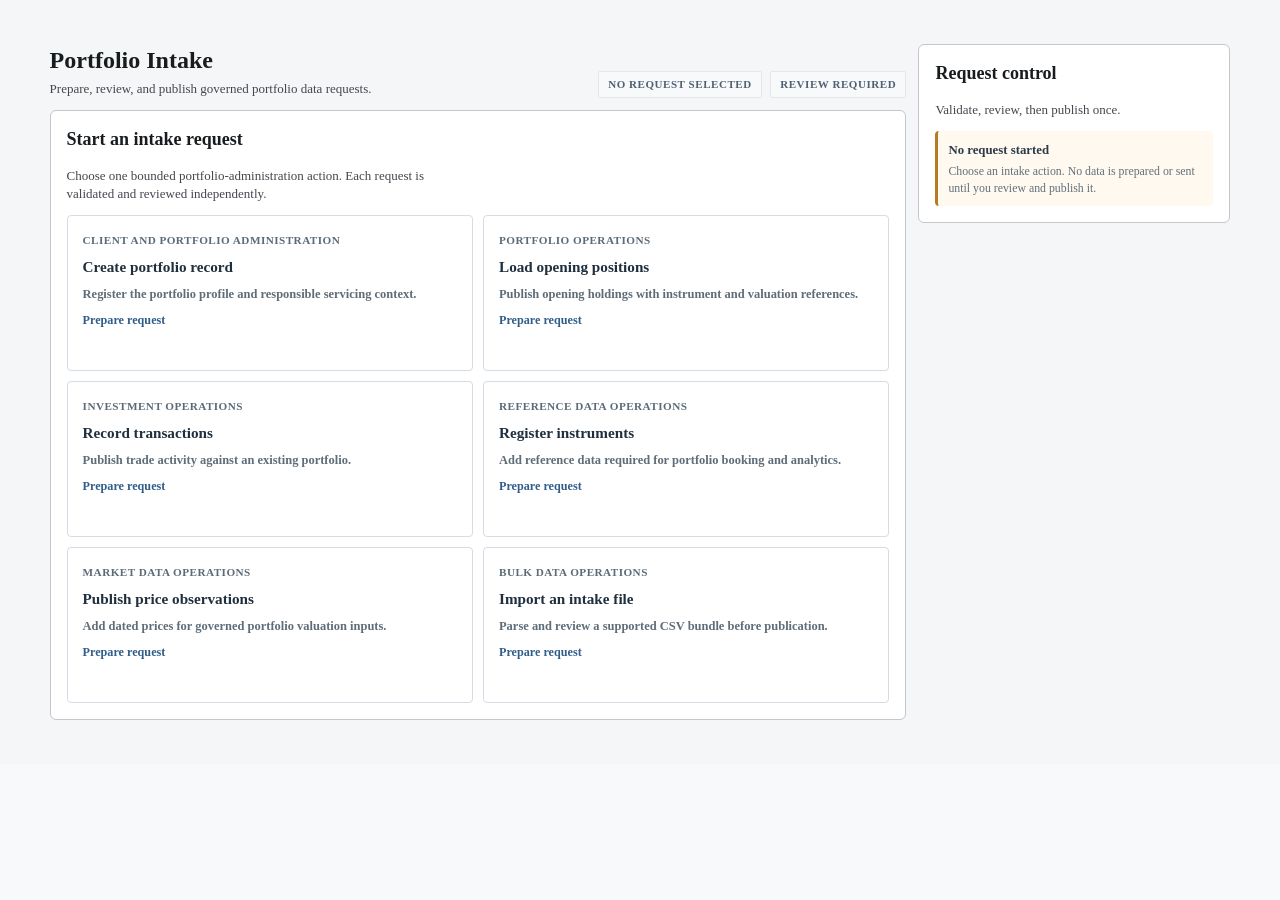
Test: IntakePage › loads optional source suggestions without replacing manual entry
Step 1. Click the button "Create portfolio record" → click(270, 293), box [67,215,473,371]
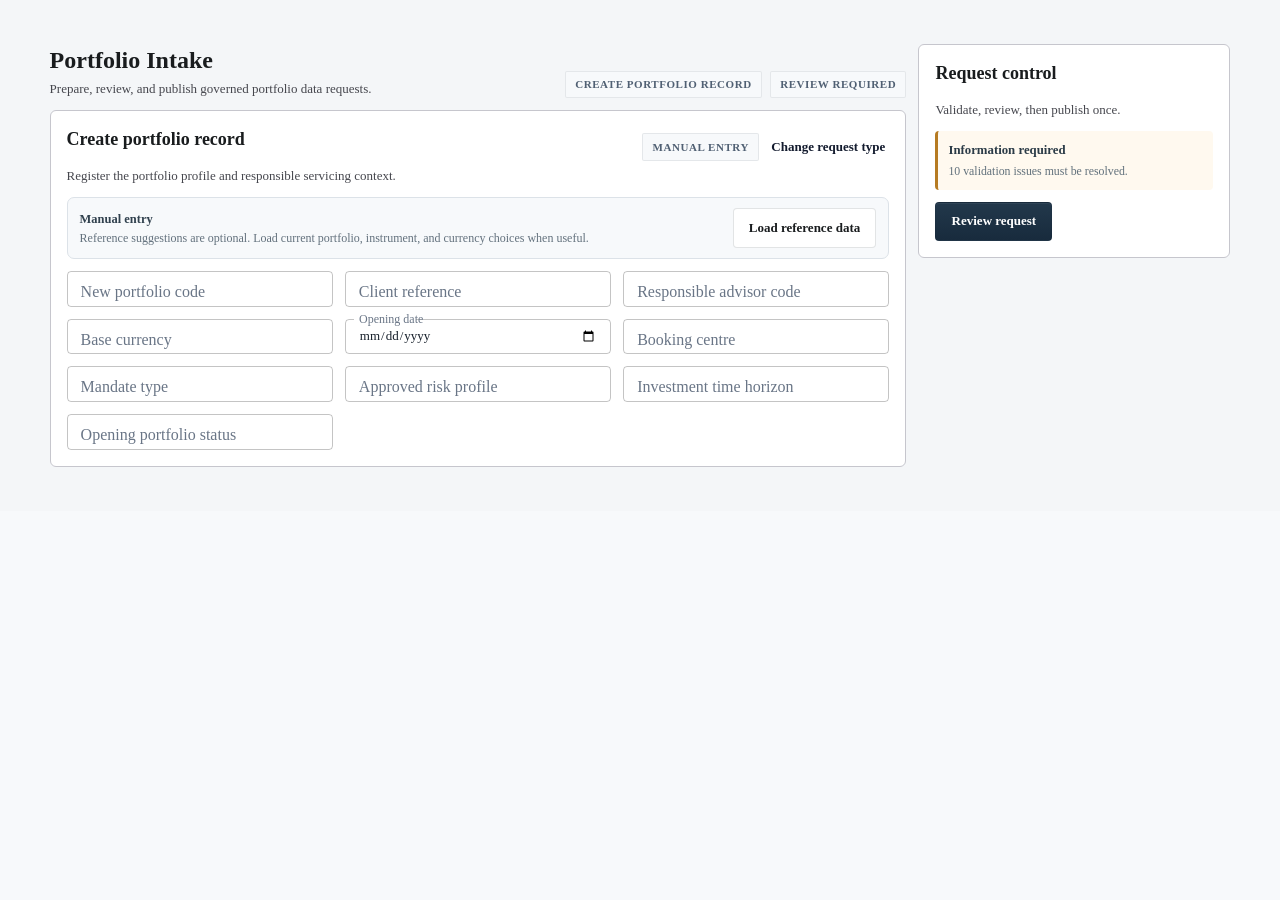
Step 2. Click the button "Load reference data" → click(804, 228), box [733,208,876,248]
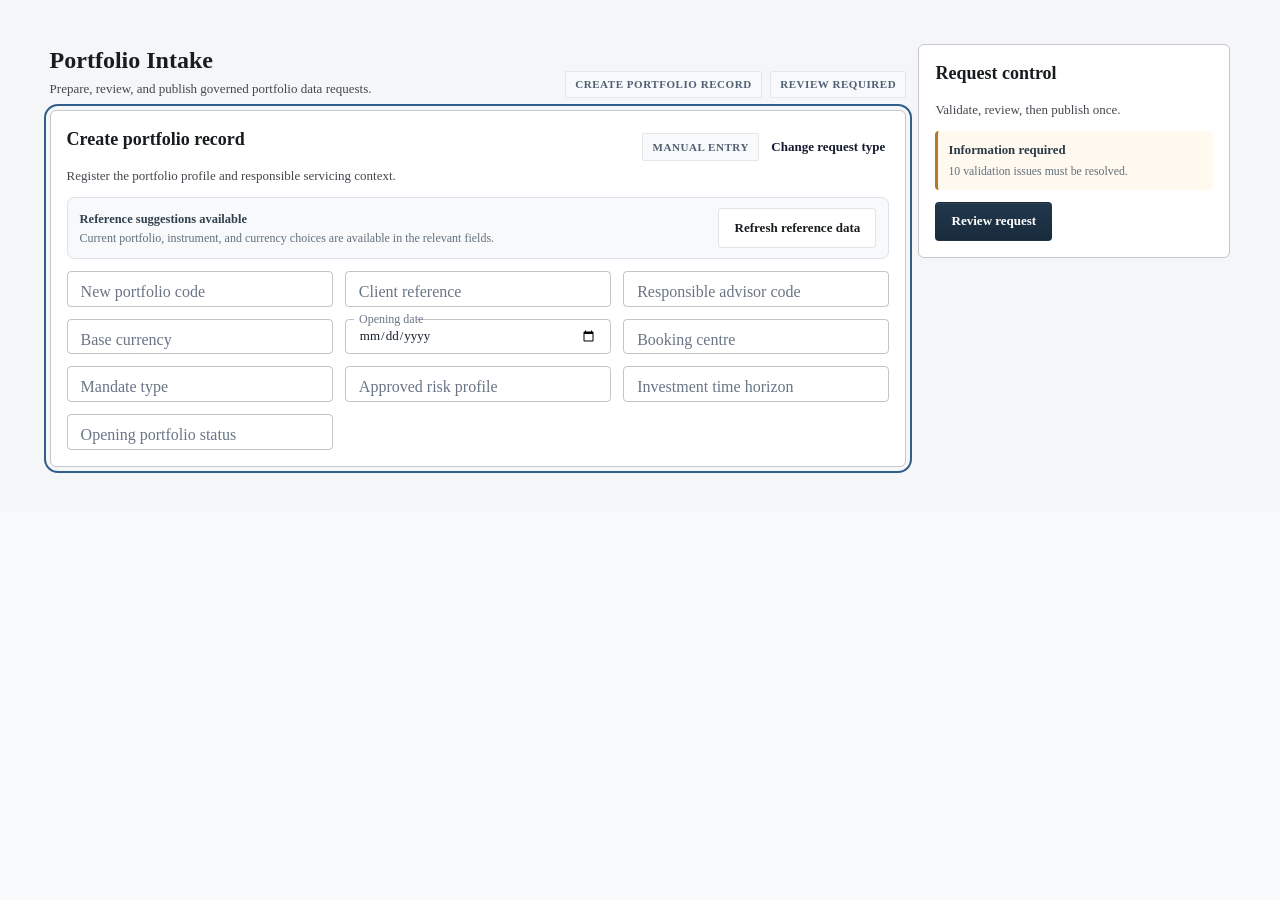
Result: the dropdown labelled "New portfolio code" is enabled at [73,277,294,300]
Result: the text "Reference suggestions available" is shown at [80,212,247,226]
